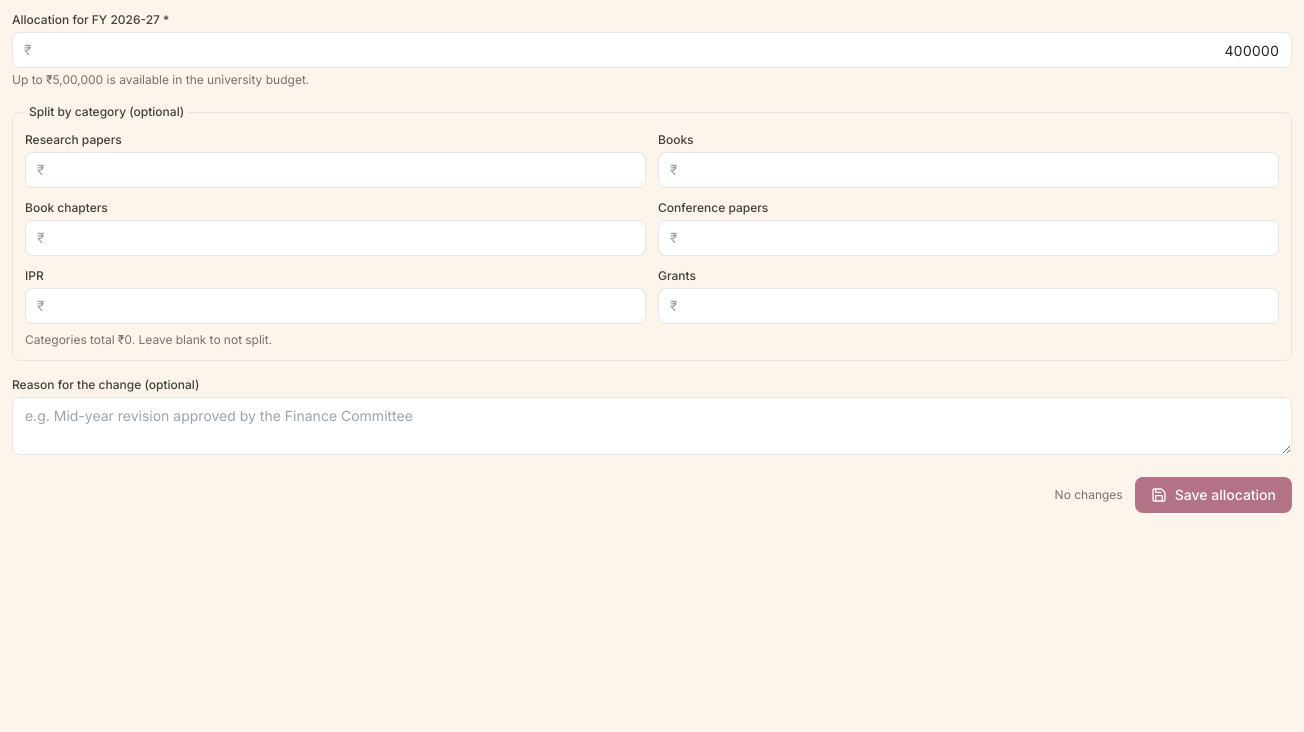
Test: AllocationEditor › shows the server message when the backend refuses
The image size is (1304, 732).
Replace the text in the field labelled "Allocation for FY 2026-27 *" with "450000" at (652, 50), box [12,32,1292,68]
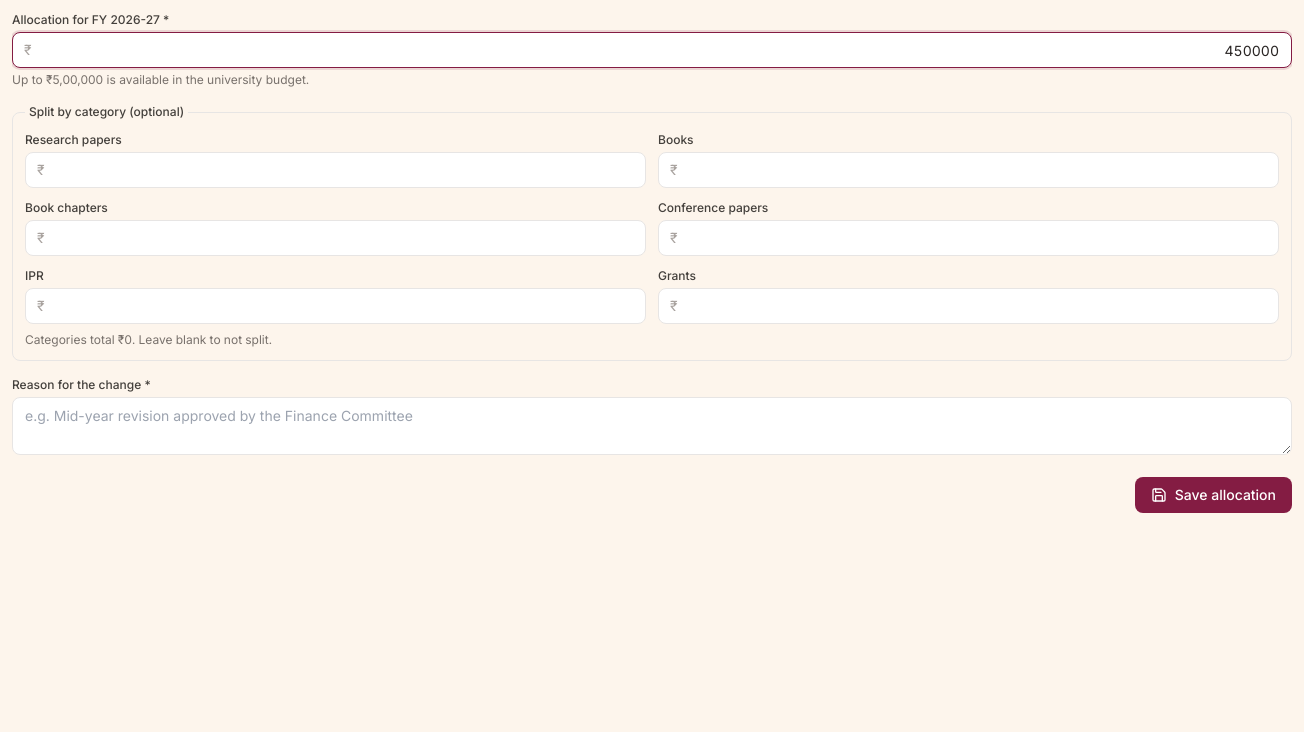
Type "Because" into the text box labelled "Reason for the change *".
click(652, 426); type("Because")  # box [12,397,1292,455]
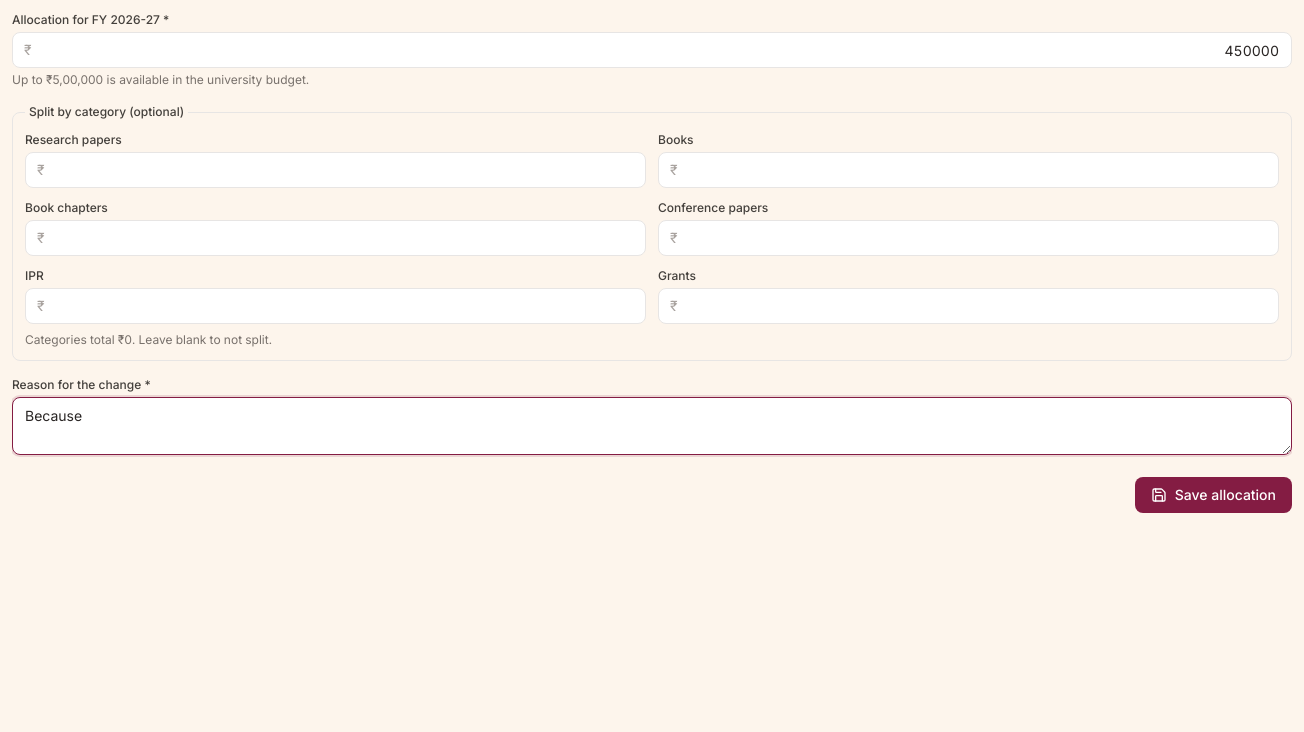
Click the button "Save allocation".
click(1213, 495)  # box [1135,477,1292,513]
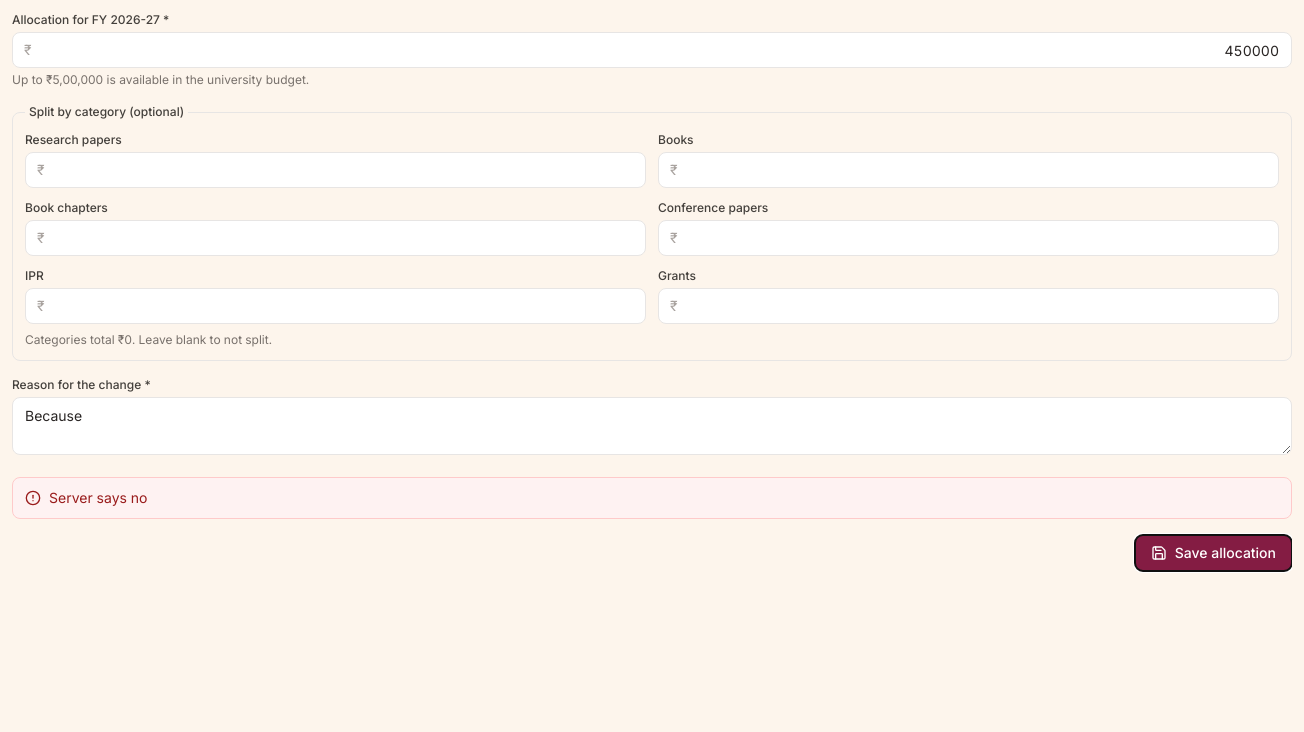
Result: the message reads "Server says no" at [49,489,148,506]
